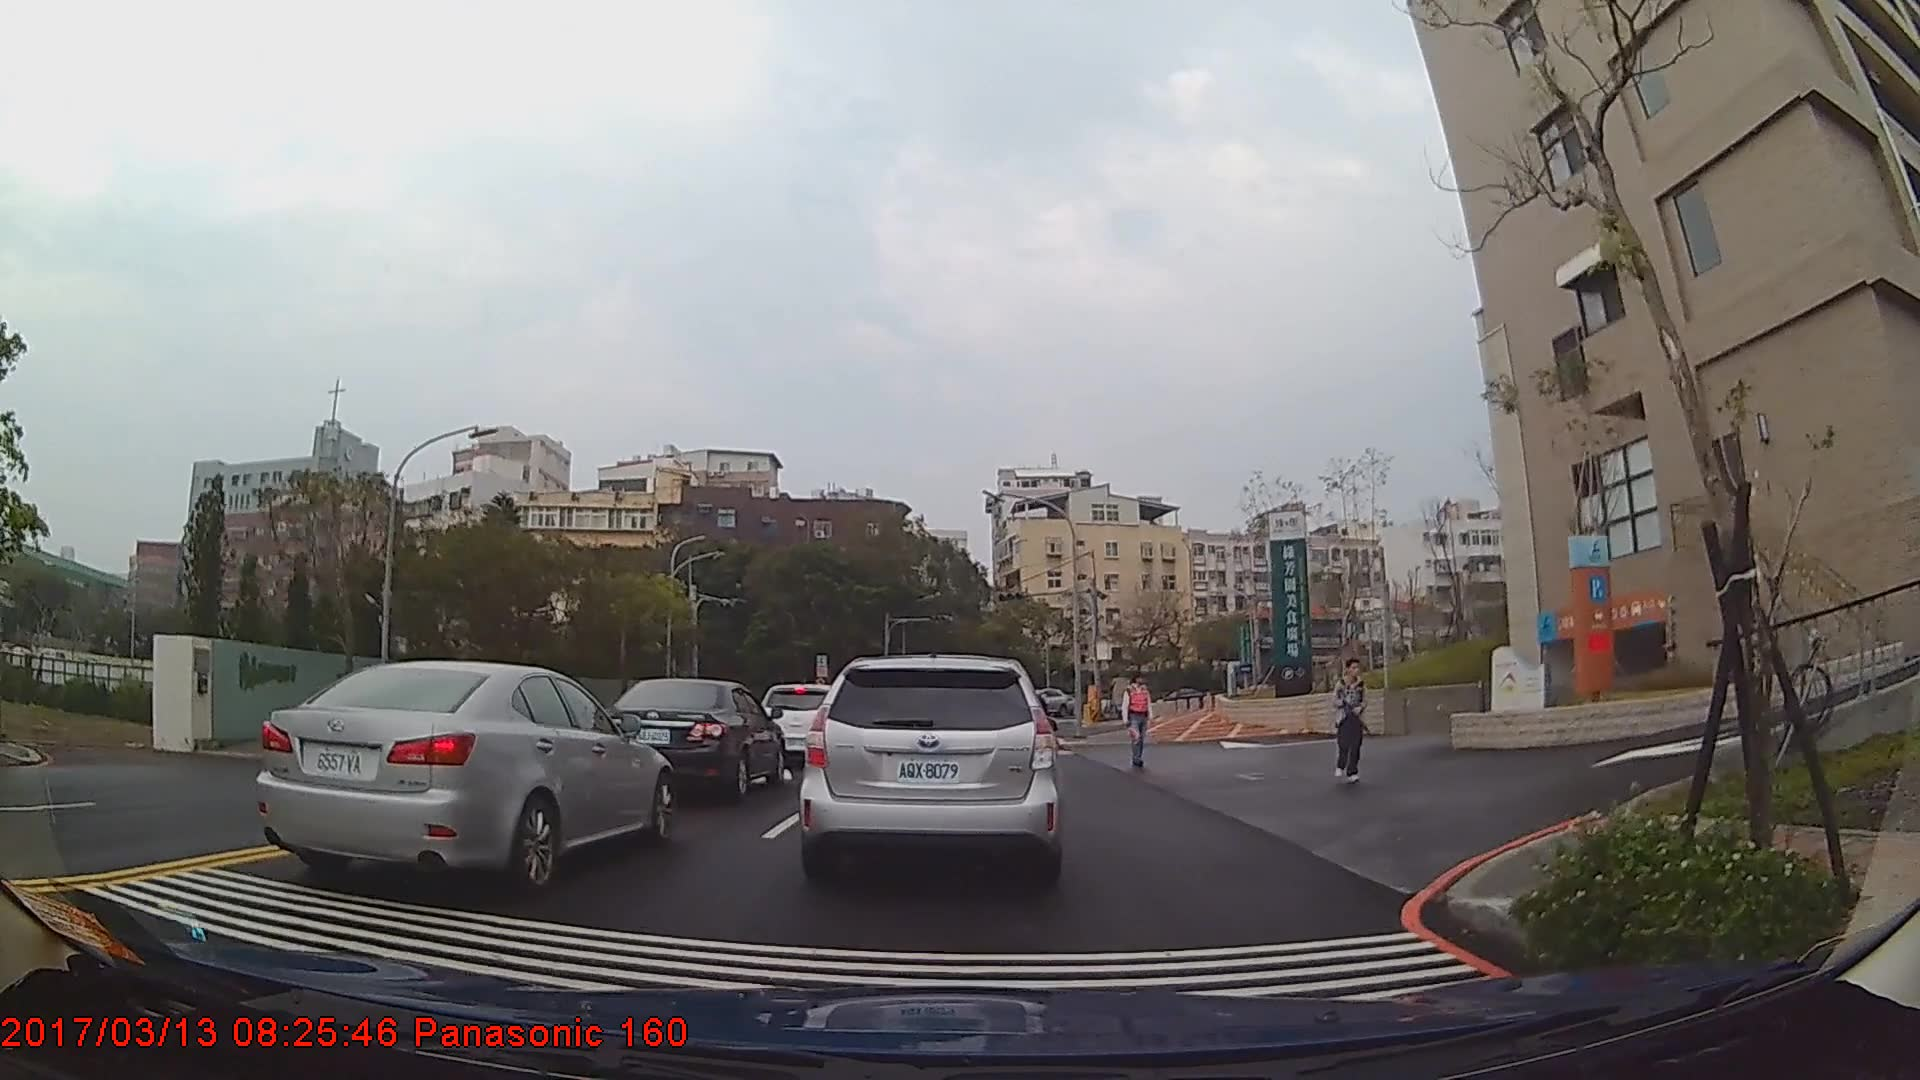pedestrian: (1333, 658, 1372, 785), (1123, 671, 1154, 769)
vehicle: (255, 662, 673, 893), (797, 653, 1061, 888), (598, 677, 786, 797)
